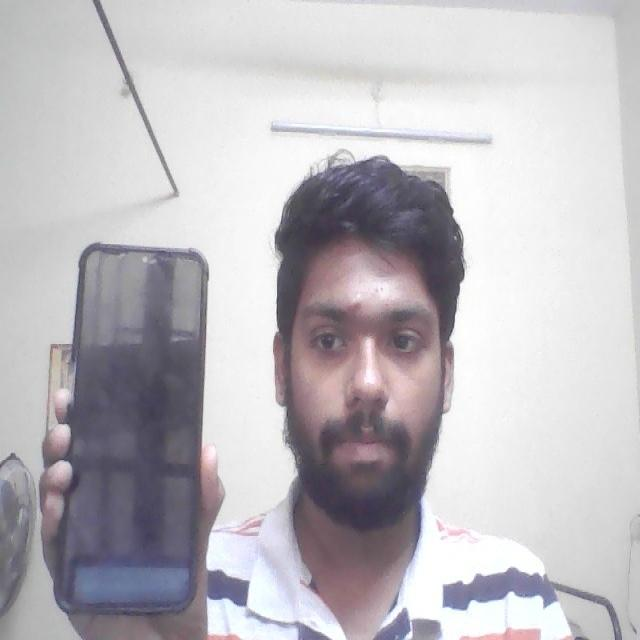Mobile: (47, 236, 211, 618)
